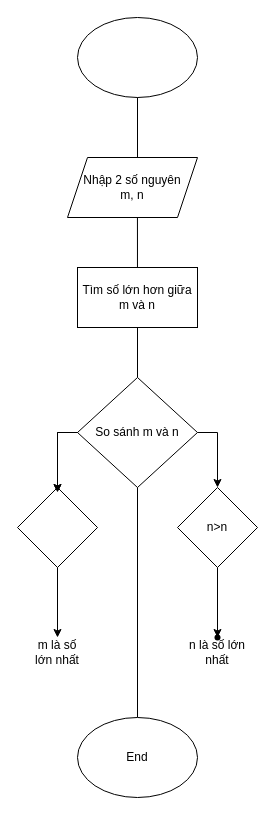
This 275x815 diagram has some shape labels left out. The centre of each missing label's shape, as x and y in pixels:
"m>n" goes at (57,527).
"Start" goes at (137,57).
